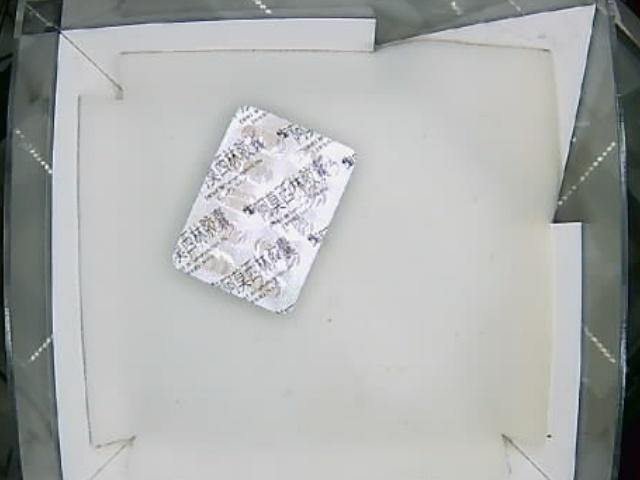Medicine: (173, 106, 356, 316)
